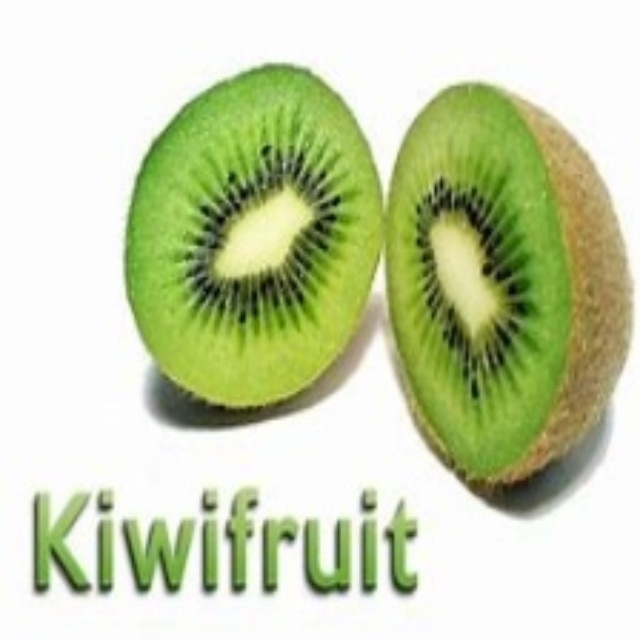kiwi: (381, 79, 637, 505), (122, 64, 389, 412)
